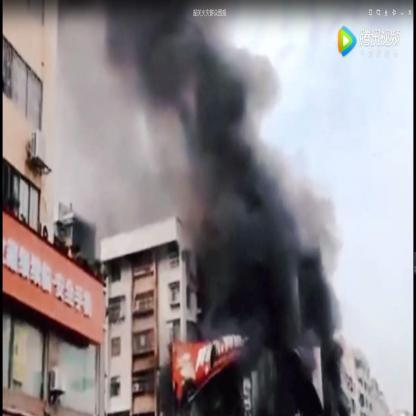smoke: (189, 145, 298, 339), (193, 32, 281, 142), (103, 3, 194, 107), (298, 234, 336, 346), (272, 344, 316, 414), (320, 347, 351, 415)
